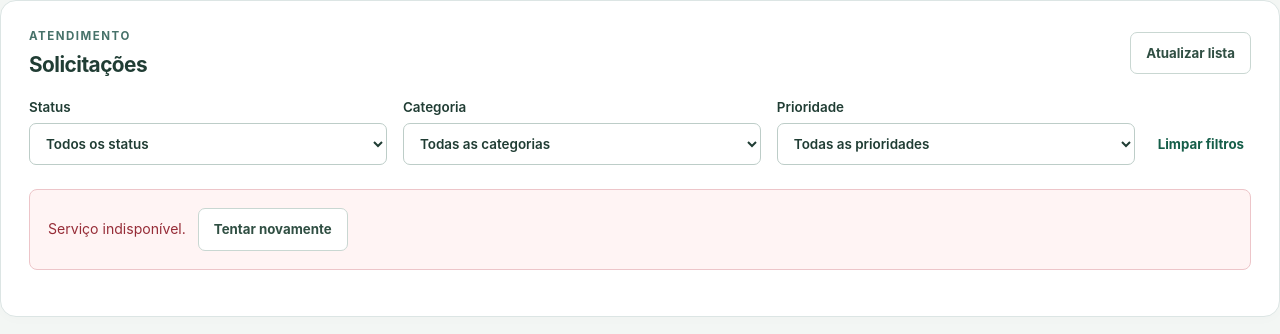
Scenario: SolicitacoesList › exibe a falha da API e permite tentar novamente até uma listagem vazia
Check: the message "Serviço indisponível. Tentar novamente" is shown, box [29,189,1251,270]
Check: the message shows "Serviço indisponível.", box [48,220,186,237]
Click the button "Tentar novamente" at point(273, 230), box [198,208,348,251]
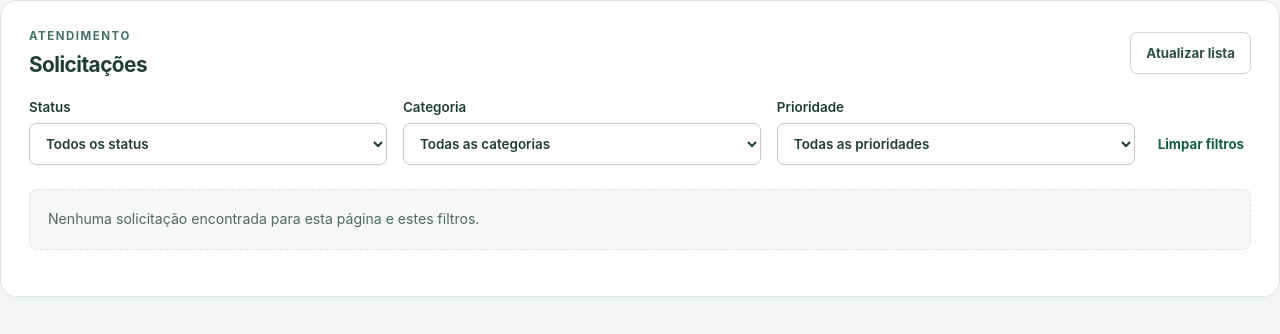
Check: the text "Nenhuma solicitação encontrada" is shown, box [48,210,479,227]
